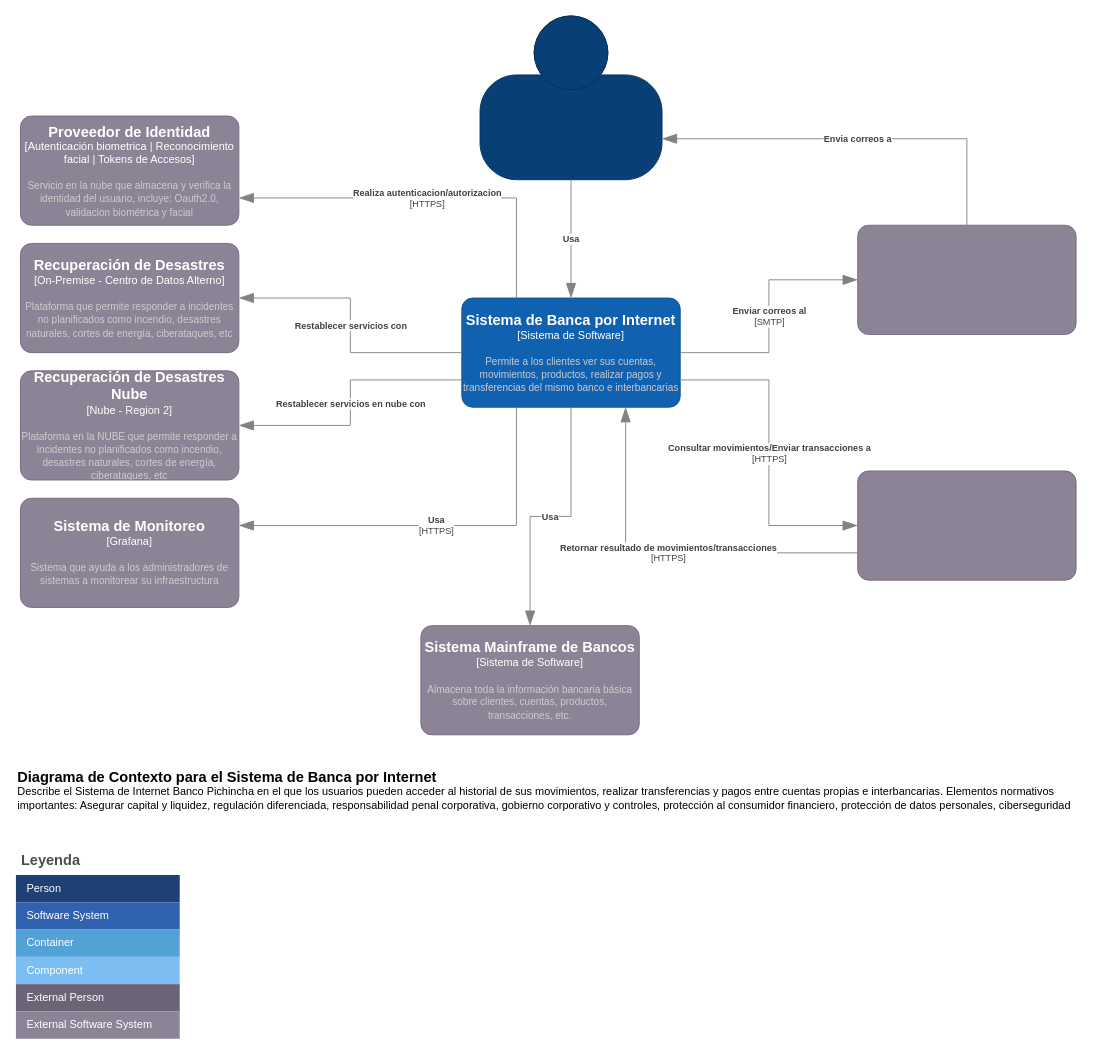
Image size: 1109x1055. Some labels were removed from this diagram. Each missing label, with the centre of its shape:
Cliente del Banco [Persona] Un cliente del banco con cuentas bancarias en el BP: point (570, 97)
Otros Bancos [Sistema de Software] Bancos distintos a Banco Pichincha: point (966, 525)
Sistema de Correos [Sengrid] Maneja el sistema interno de correos: point (966, 279)
